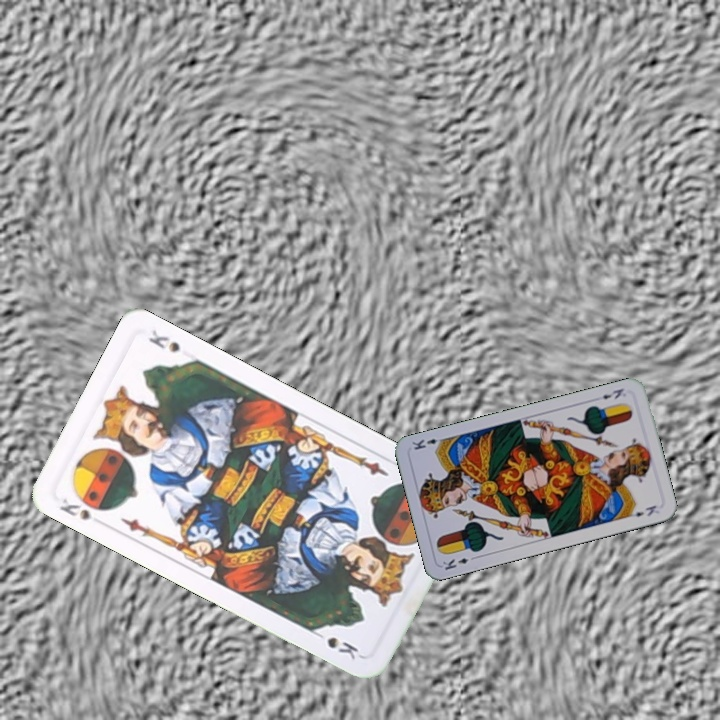EK: (438, 552, 479, 573), (598, 384, 626, 402)
SK: (55, 494, 95, 523)
